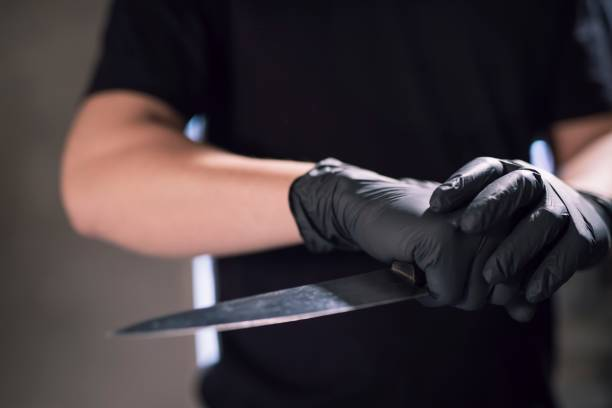knife: (110, 260, 430, 342)
